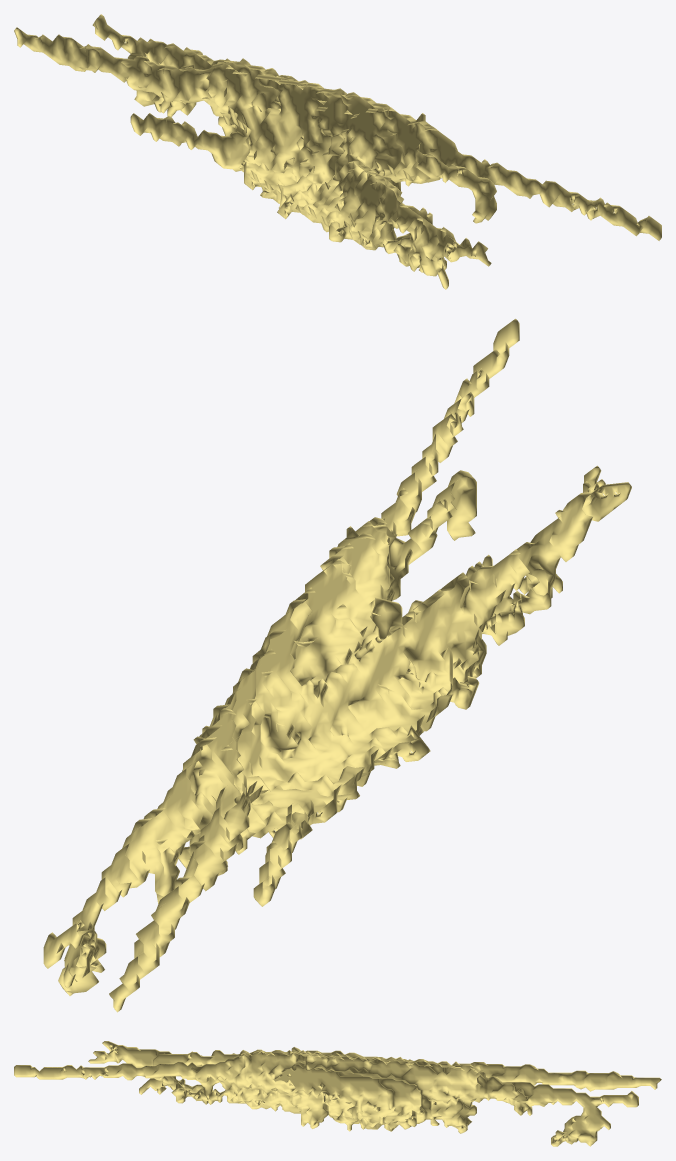
File: osteocyte_15.glb
The picture shows the model from 3 angles, top to bottom: view 1: azimuth 30°, elevation 25°; view 2: azimuth 150°, elevation 25°; view 3: azimuth 270°, elevation 25°; orthographic projection. The views are drawn at different scales.
Parts seen in each view (by area): view 1: osteocyte_15; view 2: osteocyte_15; view 3: osteocyte_15.
Part boxes in pixels (x1=…): osteocyte_15: x1=14, y1=14, x2=661, y2=289; osteocyte_15: x1=43, y1=318, x2=631, y2=1012; osteocyte_15: x1=14, y1=1041, x2=661, y2=1146.
Bounding box in the file's own units: 13.86 × 12.07 × 62.59.
